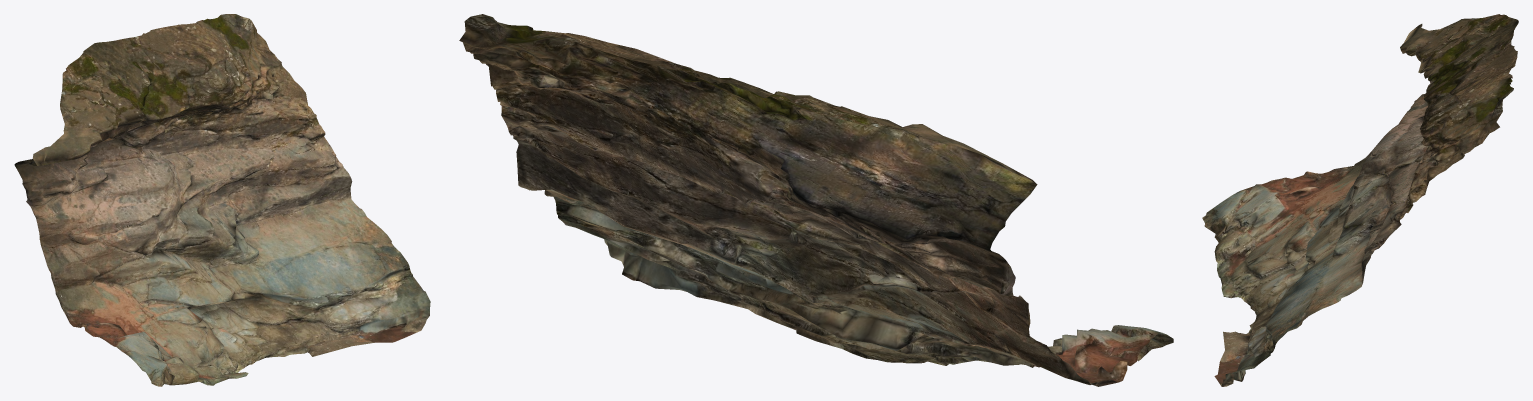
The model's file is cliff_a.glb.
3 views of the same model, side by side, from view 1: azimuth 30°, elevation 25°; view 2: azimuth 150°, elevation 25°; view 3: azimuth 270°, elevation 25° (orthographic). The views are drawn at different scales.
Parts seen in each view (by area): view 1: rock_face_01; view 2: rock_face_01; view 3: rock_face_01.
Part boxes in pixels (bbox=[...]): rock_face_01: bbox=[14, 14, 430, 386]; rock_face_01: bbox=[459, 14, 1173, 386]; rock_face_01: bbox=[1202, 14, 1518, 386].
Size of the model in its own units: 4.95 by 3.56 by 3.82.
1 material, 1 textured.
